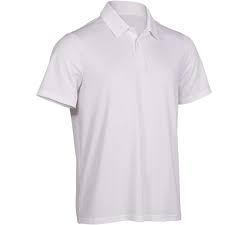S_polo shirt: (39, 1, 212, 221)
